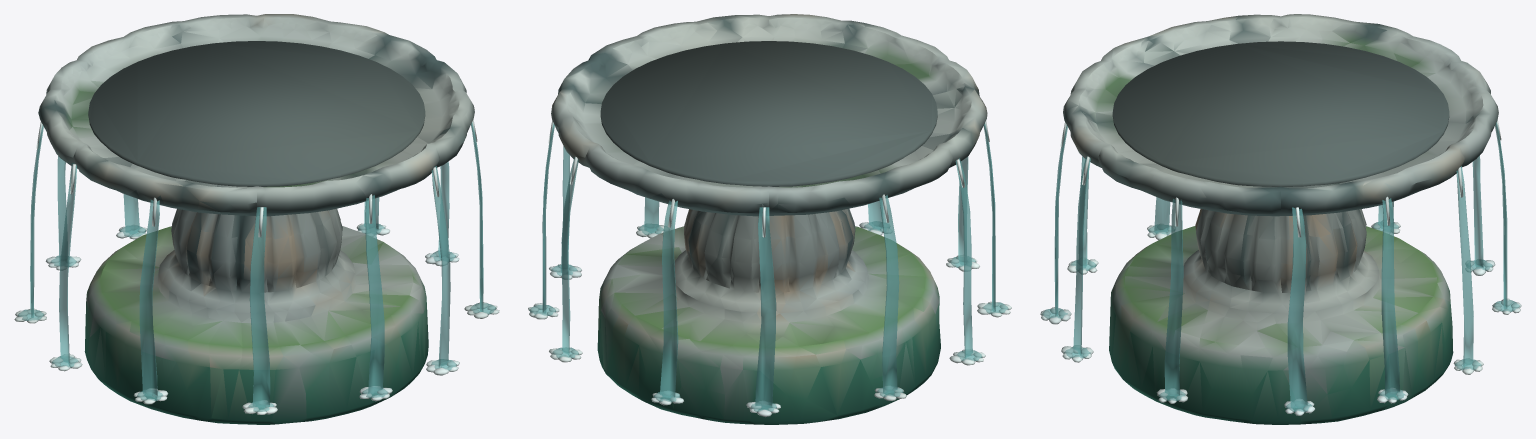
Rendered from grotto_fountain_lod1.glb.
3 views of the same model, side by side, from view 1: azimuth 30°, elevation 25°; view 2: azimuth 150°, elevation 25°; view 3: azimuth 270°, elevation 25° (orthographic).
Parts seen in each view (by area): view 1: grotto_fountain.001; view 2: grotto_fountain.001; view 3: grotto_fountain.001.
Boxes of the visible parts, x1=… form: grotto_fountain.001: x1=14, y1=14, x2=499, y2=424; grotto_fountain.001: x1=528, y1=14, x2=1011, y2=424; grotto_fountain.001: x1=1040, y1=14, x2=1521, y2=424.
Bounding box in the file's own units: 28.25 × 16.15 × 28.02.
